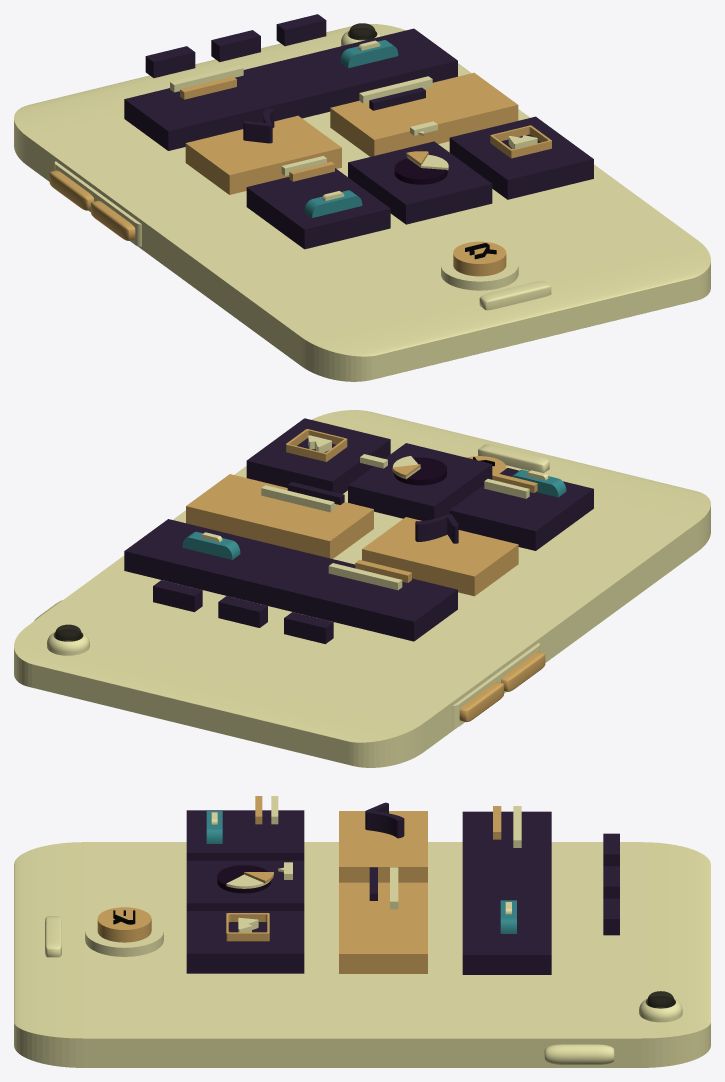
File: 3dhomelos.gltf
The picture shows the model from 3 angles, top to bottom: view 1: azimuth 30°, elevation 25°; view 2: azimuth 150°, elevation 25°; view 3: azimuth 270°, elevation 25°; orthographic projection.
Parts seen in each view (by area): view 1: Cube, Cube.001, Cube.005, Cube.002, Cube.011, Cube.013, Cube.012, Cylinder.005, Cylinder.004, Cube.023, Cube.009, Cube.010 (+13 smaller); view 2: Cube, Cube.001, Cube.005, Cube.002, Cube.011, Cube.012, Cube.013, Cube.009, Cube.010, Cube.008, Cube.023, Curve.001 (+12 smaller); view 3: Cube, Cube.001, Cube.005, Cube.013, Cube.011, Cube.002, Cube.012, Cylinder.004, Cylinder.005, Cylinder, Curve, Curve.001 (+8 smaller).
Part boxes in pixels (bbox=[...]): Cube: bbox=[14, 24, 710, 381]; Cube.001: bbox=[124, 28, 457, 150]; Cube.005: bbox=[330, 72, 518, 156]; Cube.002: bbox=[185, 115, 341, 194]; Cube.011: bbox=[246, 168, 390, 249]; Cube.013: bbox=[449, 116, 593, 199]; Cube.012: bbox=[348, 141, 492, 224]; Cylinder.005: bbox=[441, 253, 518, 290]; Cylinder.004: bbox=[453, 241, 506, 276]; Cube.023: bbox=[479, 281, 551, 310]; Cube.009: bbox=[276, 14, 326, 46]; Cube.010: bbox=[145, 46, 195, 77]; Cube: bbox=[14, 410, 710, 767]; Cube.001: bbox=[124, 519, 457, 641]; Cube.005: bbox=[186, 474, 373, 558]; Cube.002: bbox=[362, 517, 518, 596]; Cube.011: bbox=[449, 468, 593, 550]; Cube.012: bbox=[348, 443, 492, 520]; Cube.013: bbox=[246, 418, 390, 493]; Cube.009: bbox=[153, 580, 202, 612]; Cube.010: bbox=[284, 612, 333, 644]; Cube.008: bbox=[218, 596, 267, 627]; Cube.023: bbox=[478, 444, 549, 473]; Curve.001: bbox=[286, 429, 347, 461]; Cube: bbox=[14, 842, 710, 1067]; Cube.001: bbox=[462, 811, 551, 974]; Cube.005: bbox=[339, 882, 427, 973]; Cube.013: bbox=[186, 911, 304, 973]; Cube.011: bbox=[186, 810, 304, 860]; Cube.002: bbox=[339, 811, 427, 882]; Cube.012: bbox=[186, 860, 304, 910]; Cylinder.004: bbox=[97, 907, 151, 942]; Cylinder.005: bbox=[85, 919, 163, 956]; Cylinder: bbox=[544, 1044, 614, 1065]; Curve: bbox=[365, 802, 404, 838]; Curve.001: bbox=[226, 913, 269, 941].
Size of the model in its own units: 2.12 by 0.5409 by 3.
